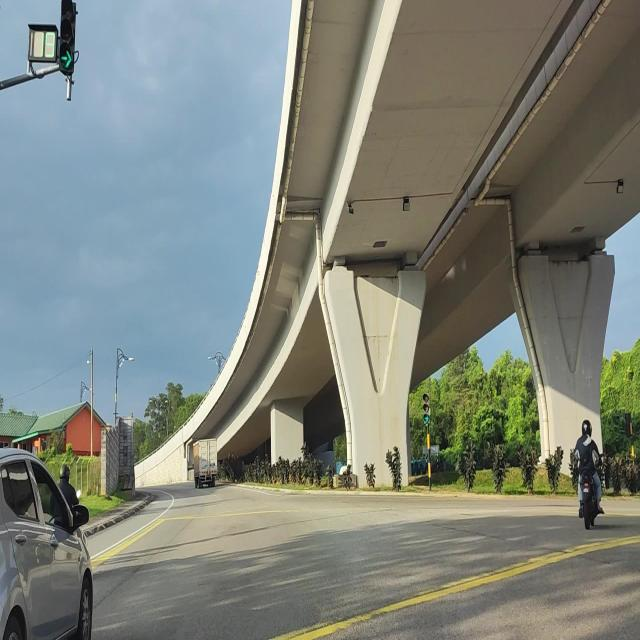green_light: (59, 0, 76, 73), (422, 391, 430, 426)
